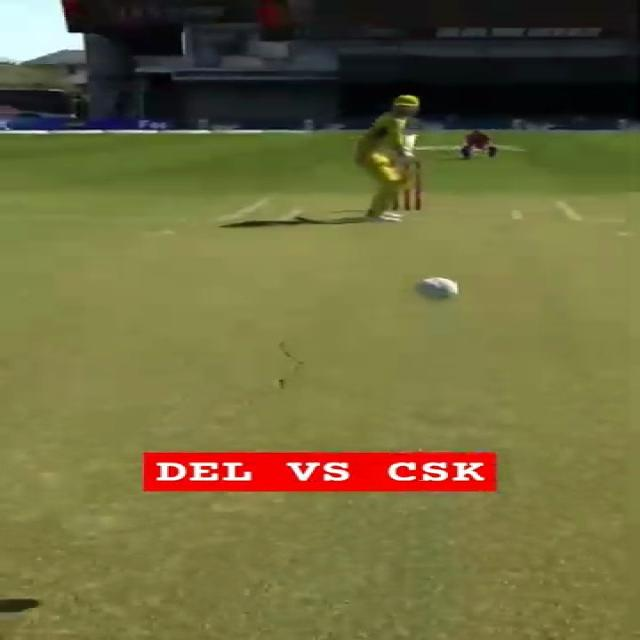ball: (414, 276, 457, 302)
